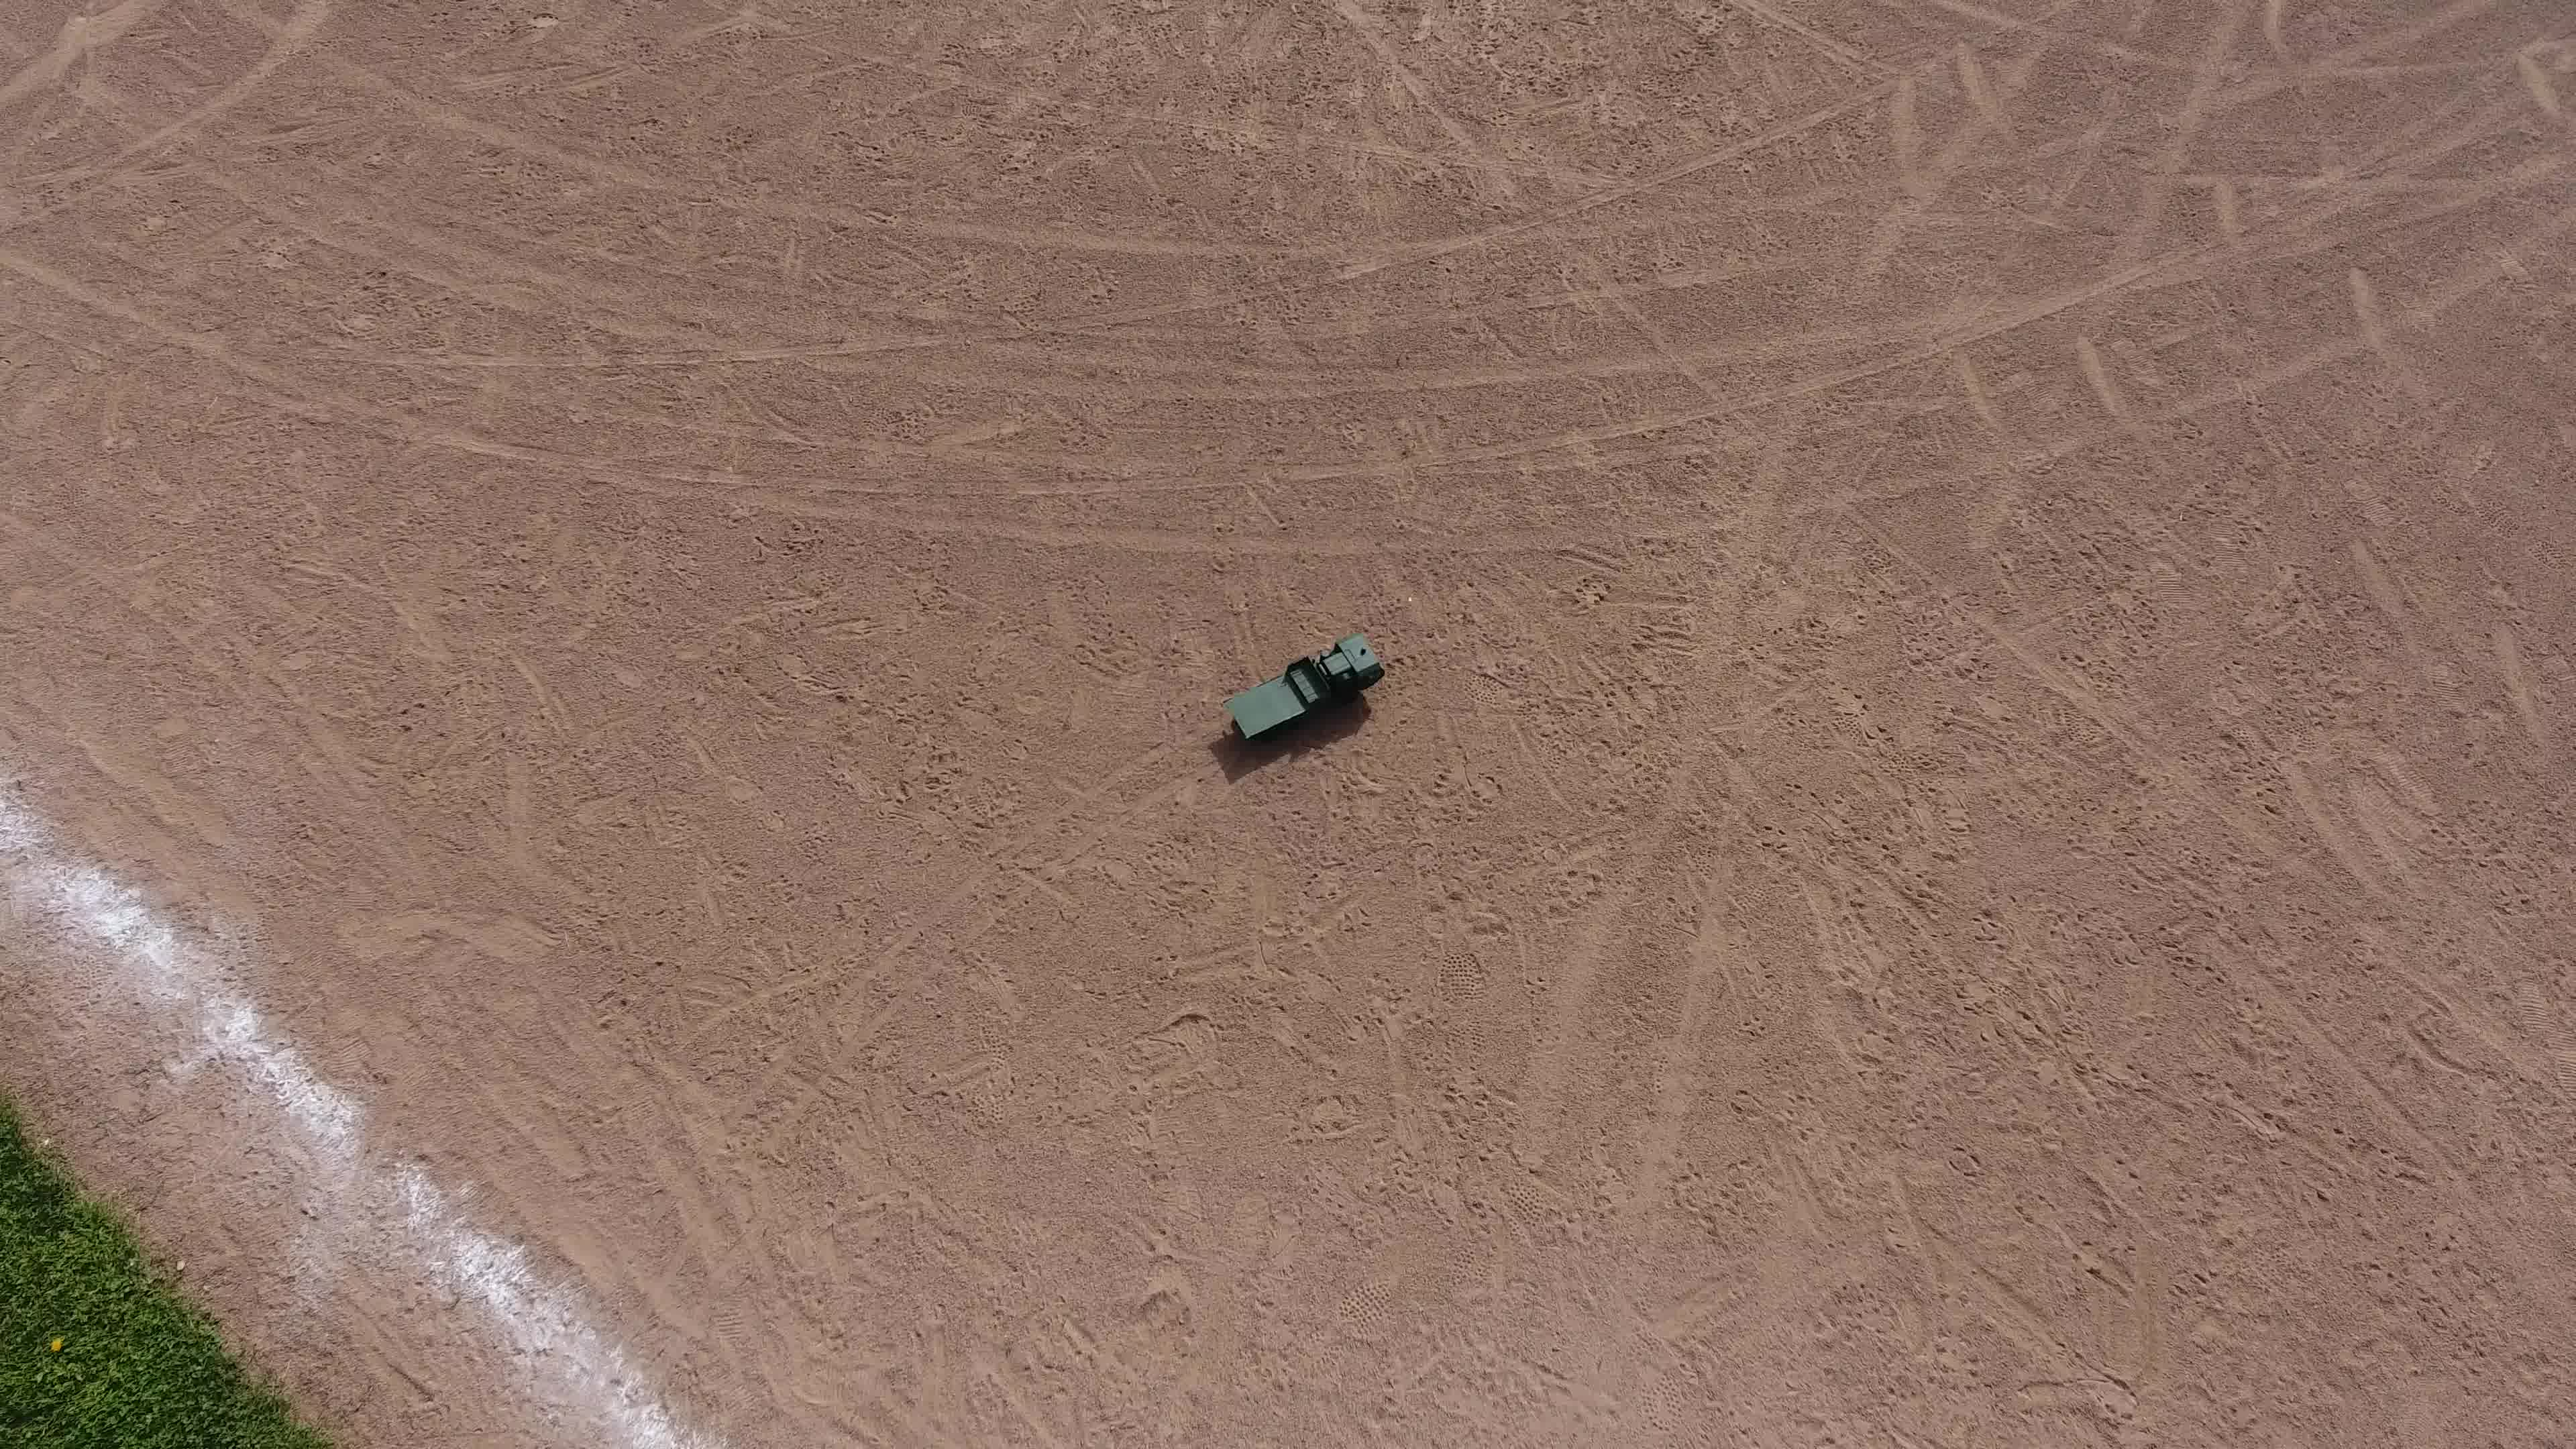transporter9: (1214, 626, 1391, 754)
